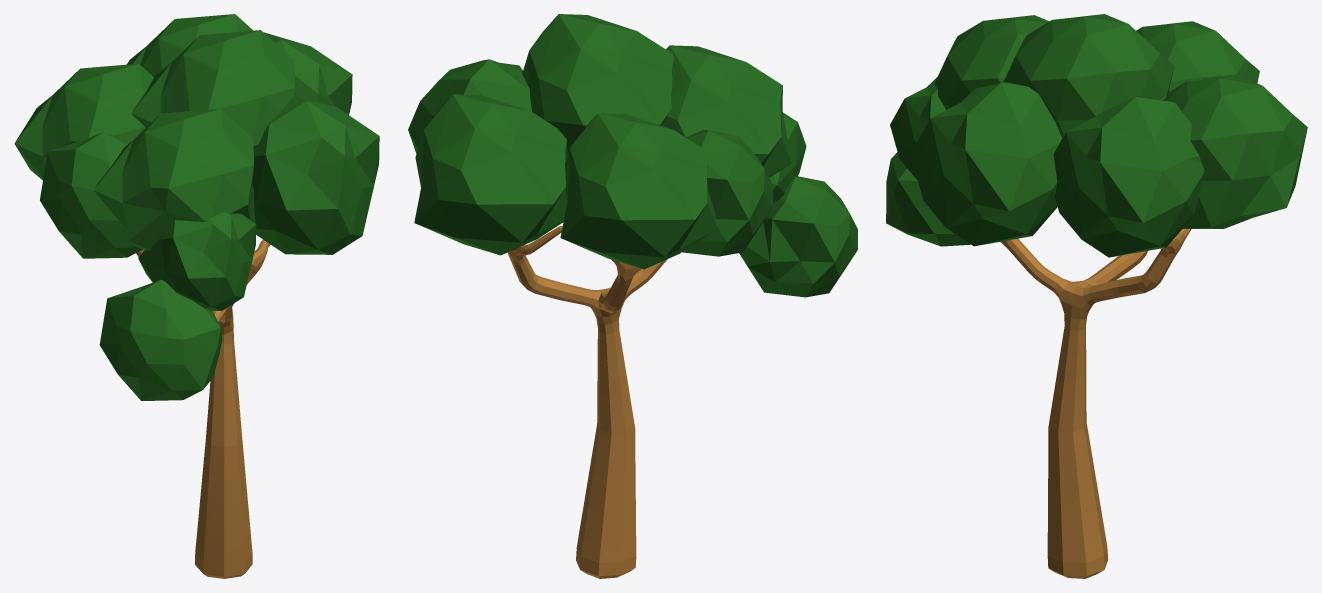
File: tree.010_lev4.glb
The picture shows the model from 3 angles, left to right: view 1: azimuth 30°, elevation 25°; view 2: azimuth 150°, elevation 25°; view 3: azimuth 270°, elevation 25°; orthographic projection. The views are drawn at different scales.
Visible parts, largest first — view 1: tree.010_lev4; view 2: tree.010_lev4; view 3: tree.010_lev4.
Part boxes in pixels (box(x1,y1,x2,y2)): tree.010_lev4: box(14, 14, 379, 578); tree.010_lev4: box(408, 14, 857, 578); tree.010_lev4: box(886, 14, 1307, 578).
Bounding box in the file's own units: 1.81 × 2.76 × 1.89.
